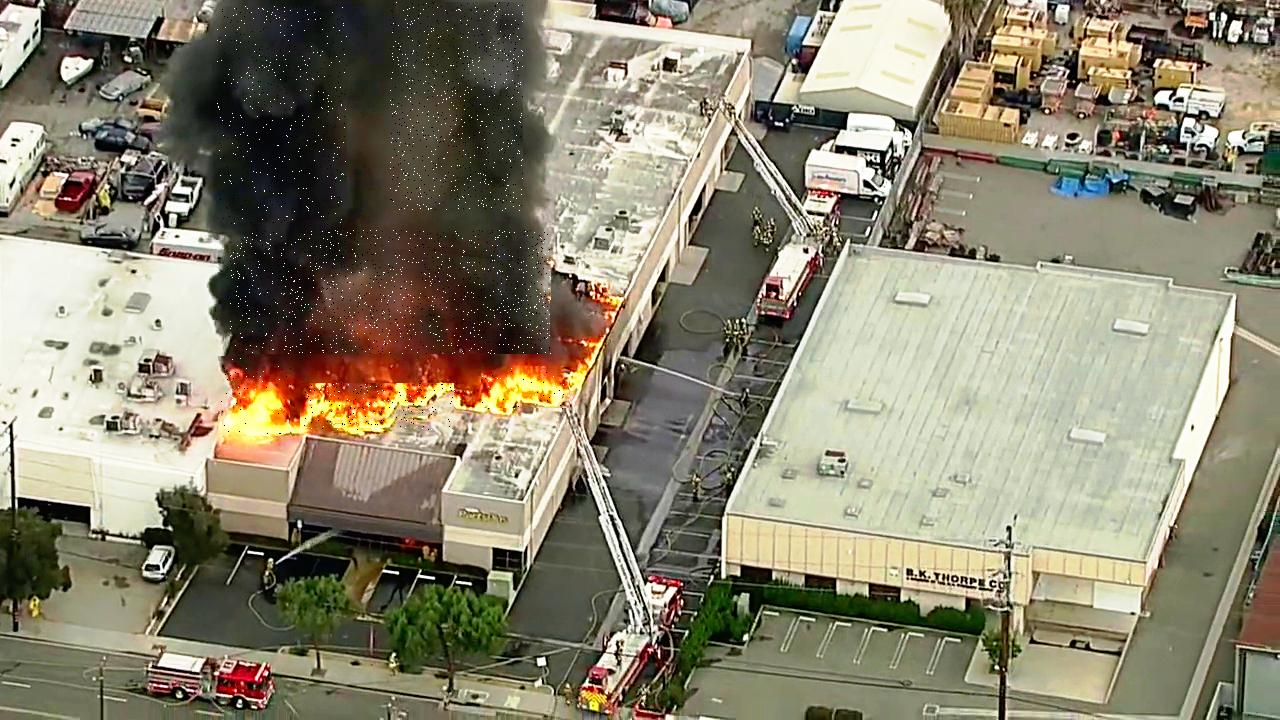fire: (301, 384, 457, 431), (219, 357, 293, 439), (481, 367, 570, 411)
smoke: (230, 230, 551, 354), (217, 7, 347, 226), (390, 2, 523, 211)
